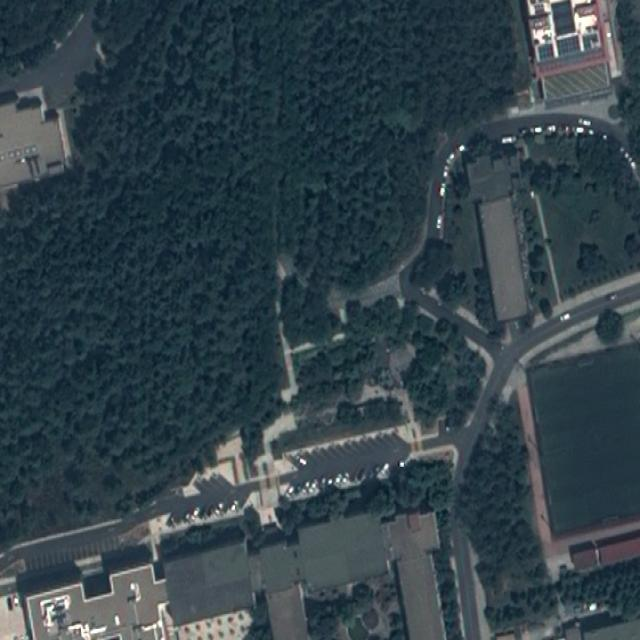Batiment: (165, 513, 444, 640), (26, 566, 165, 640), (524, 0, 620, 102), (0, 87, 70, 207), (479, 197, 528, 321), (571, 530, 640, 570)
